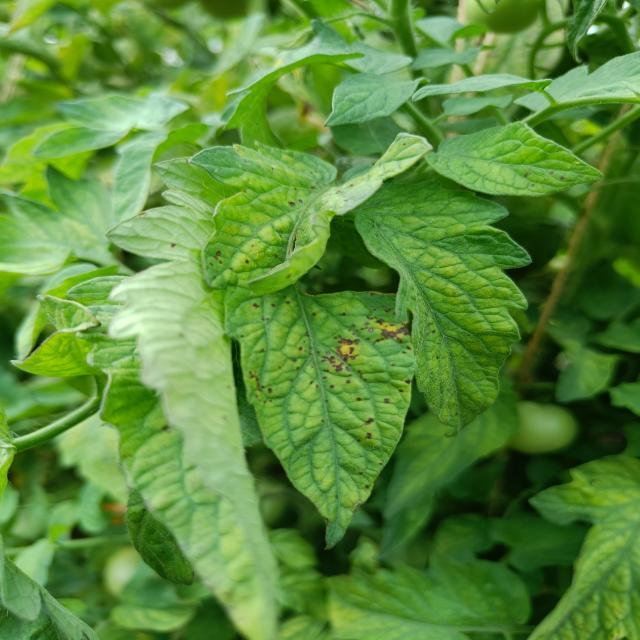Tomato mosaic virus leaf: (232, 290, 419, 554), (201, 182, 375, 298)
